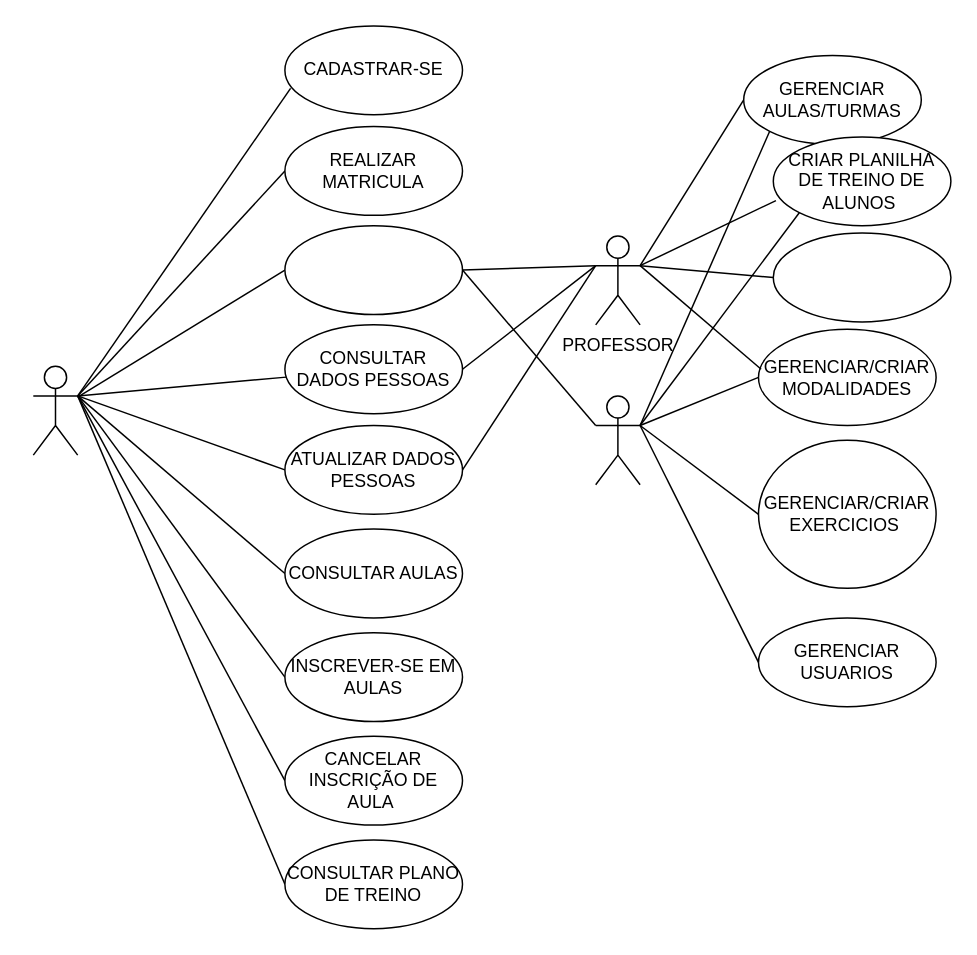
This 977x955 diagram has some shape labels left out. The shapes that lost their labels are listed below. From the top down, each one's centre as x and y in pixels, then its label:
the point at 372,269: REALIZAR LOGIN
the point at 861,277: GERENCIAR PLANILHA DE TREINO
the point at 55,410: ALUNO
the point at 617,439: ADMINISTRADOR
